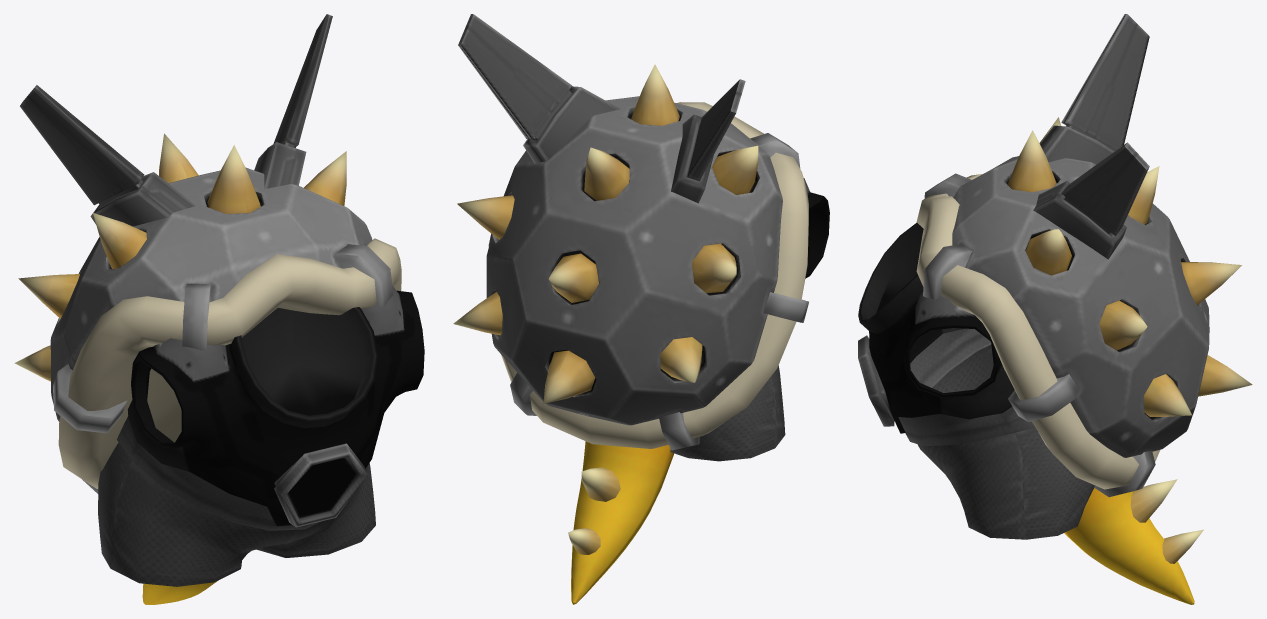
The model's file is bowser4body.fbx.
3 renders of one model, left to right at view 1: azimuth 30°, elevation 25°; view 2: azimuth 150°, elevation 25°; view 3: azimuth 270°, elevation 25°, orthographic. The views are drawn at different scales.
Parts seen in each view (by area): view 1: model_0_submesh_1, model_0_submesh_2, model_0_submesh_0; view 2: model_0_submesh_1, model_0_submesh_2, model_0_submesh_0; view 3: model_0_submesh_1, model_0_submesh_2, model_0_submesh_0.
Part boxes in pixels (<box>): model_0_submesh_1: <box>14,133,401,604</box>; model_0_submesh_2: <box>20,14,424,527</box>; model_0_submesh_0: <box>98,416,375,586</box>; model_0_submesh_1: <box>453,64,808,604</box>; model_0_submesh_2: <box>458,14,829,278</box>; model_0_submesh_0: <box>670,365,785,461</box>; model_0_submesh_1: <box>916,117,1252,604</box>; model_0_submesh_2: <box>858,14,1149,433</box>; model_0_submesh_0: <box>898,328,1094,539</box>.
Bounding box in the file's own units: 1.3 × 2.13 × 1.45.
